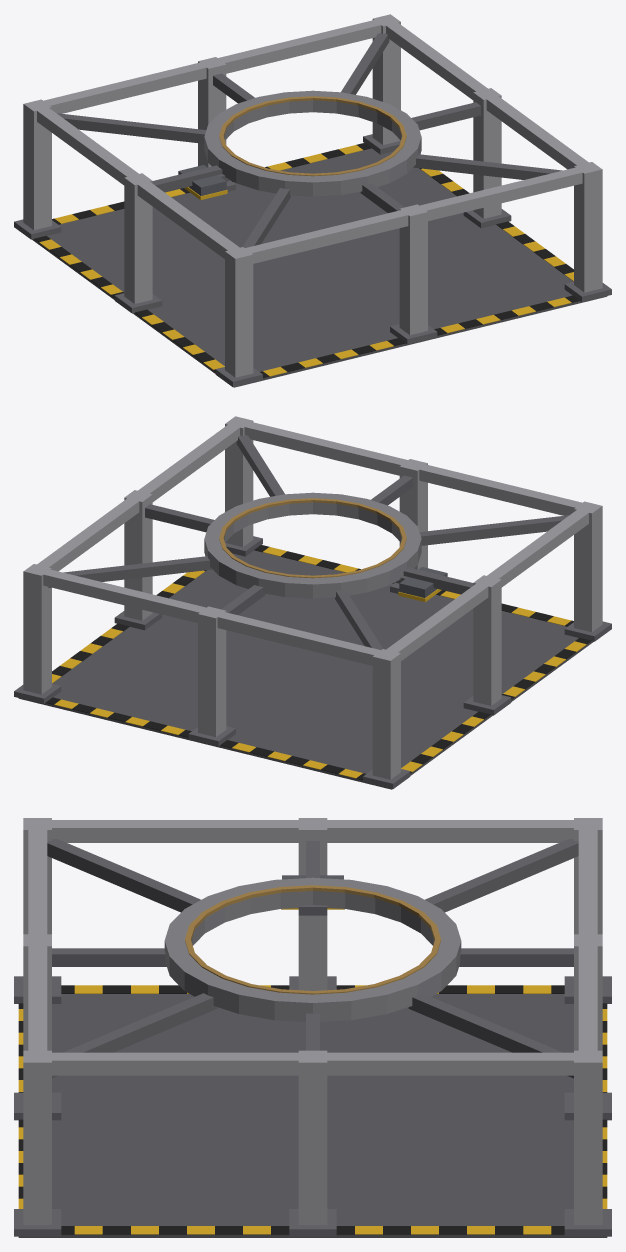
Rendered from vge_gun_frame_5x5.obj.
The picture shows the model from 3 angles, top to bottom: view 1: azimuth 30°, elevation 25°; view 2: azimuth 150°, elevation 25°; view 3: azimuth 270°, elevation 25°; orthographic projection. The views are drawn at different scales.
Parts seen in each view (by area): view 1: vge_gun_frame_5x5_0, vge_gun_frame_5x5_105, vge_gun_frame_5x5_103, vge_gun_frame_5x5_101, vge_gun_frame_5x5_102, vge_gun_frame_5x5_104, vge_gun_frame_5x5_86, vge_gun_frame_5x5_90, vge_gun_frame_5x5_94, vge_gun_frame_5x5_88, vge_gun_frame_5x5_98, vge_gun_frame_5x5_100 (+14 smaller); view 2: vge_gun_frame_5x5_0, vge_gun_frame_5x5_105, vge_gun_frame_5x5_101, vge_gun_frame_5x5_103, vge_gun_frame_5x5_102, vge_gun_frame_5x5_104, vge_gun_frame_5x5_88, vge_gun_frame_5x5_92, vge_gun_frame_5x5_96, vge_gun_frame_5x5_98, vge_gun_frame_5x5_86, vge_gun_frame_5x5_100 (+14 smaller); view 3: vge_gun_frame_5x5_0, vge_gun_frame_5x5_105, vge_gun_frame_5x5_104, vge_gun_frame_5x5_102, vge_gun_frame_5x5_100, vge_gun_frame_5x5_92, vge_gun_frame_5x5_90, vge_gun_frame_5x5_103, vge_gun_frame_5x5_101, vge_gun_frame_5x5_98, vge_gun_frame_5x5_106, vge_gun_frame_5x5_107 (+14 smaller).
Part boxes in pixels (x1,y1,x2,y2): vge_gun_frame_5x5_0: [32, 148, 607, 387]; vge_gun_frame_5x5_105: [204, 90, 421, 196]; vge_gun_frame_5x5_103: [36, 18, 389, 113]; vge_gun_frame_5x5_101: [237, 165, 591, 263]; vge_gun_frame_5x5_102: [35, 106, 240, 258]; vge_gun_frame_5x5_104: [385, 22, 590, 169]; vge_gun_frame_5x5_86: [225, 247, 253, 377]; vge_gun_frame_5x5_90: [574, 162, 602, 292]; vge_gun_frame_5x5_94: [399, 204, 427, 334]; vge_gun_frame_5x5_88: [23, 99, 51, 230]; vge_gun_frame_5x5_98: [124, 173, 152, 303]; vge_gun_frame_5x5_100: [473, 88, 501, 218]; vge_gun_frame_5x5_0: [18, 550, 593, 789]; vge_gun_frame_5x5_105: [204, 492, 421, 598]; vge_gun_frame_5x5_101: [236, 420, 588, 515]; vge_gun_frame_5x5_103: [34, 567, 389, 665]; vge_gun_frame_5x5_102: [385, 508, 590, 660]; vge_gun_frame_5x5_104: [35, 424, 240, 571]; vge_gun_frame_5x5_88: [372, 649, 400, 779]; vge_gun_frame_5x5_92: [23, 564, 51, 694]; vge_gun_frame_5x5_96: [198, 606, 226, 736]; vge_gun_frame_5x5_98: [473, 575, 501, 705]; vge_gun_frame_5x5_86: [574, 501, 602, 632]; vge_gun_frame_5x5_100: [124, 490, 152, 620]; vge_gun_frame_5x5_0: [18, 994, 607, 1237]; vge_gun_frame_5x5_105: [164, 877, 461, 1021]; vge_gun_frame_5x5_104: [48, 1052, 577, 1075]; vge_gun_frame_5x5_102: [47, 820, 578, 842]; vge_gun_frame_5x5_100: [298, 1050, 327, 1224]; vge_gun_frame_5x5_92: [574, 1050, 602, 1224]; vge_gun_frame_5x5_90: [23, 1050, 51, 1224]; vge_gun_frame_5x5_103: [578, 824, 597, 1056]; vge_gun_frame_5x5_101: [28, 824, 47, 1054]; vge_gun_frame_5x5_98: [298, 818, 327, 990]; vge_gun_frame_5x5_106: [185, 885, 440, 994]; vge_gun_frame_5x5_107: [47, 839, 200, 912].
Size of the model in its own units: 5.04 by 1.62 by 5.04.
